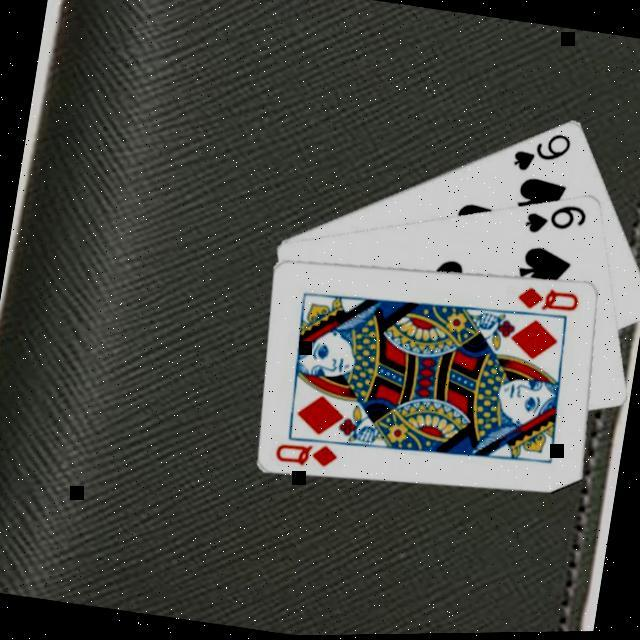6S: (520, 193, 590, 243)
9S: (506, 122, 574, 181)
QD: (511, 279, 583, 319), (269, 433, 341, 473)
